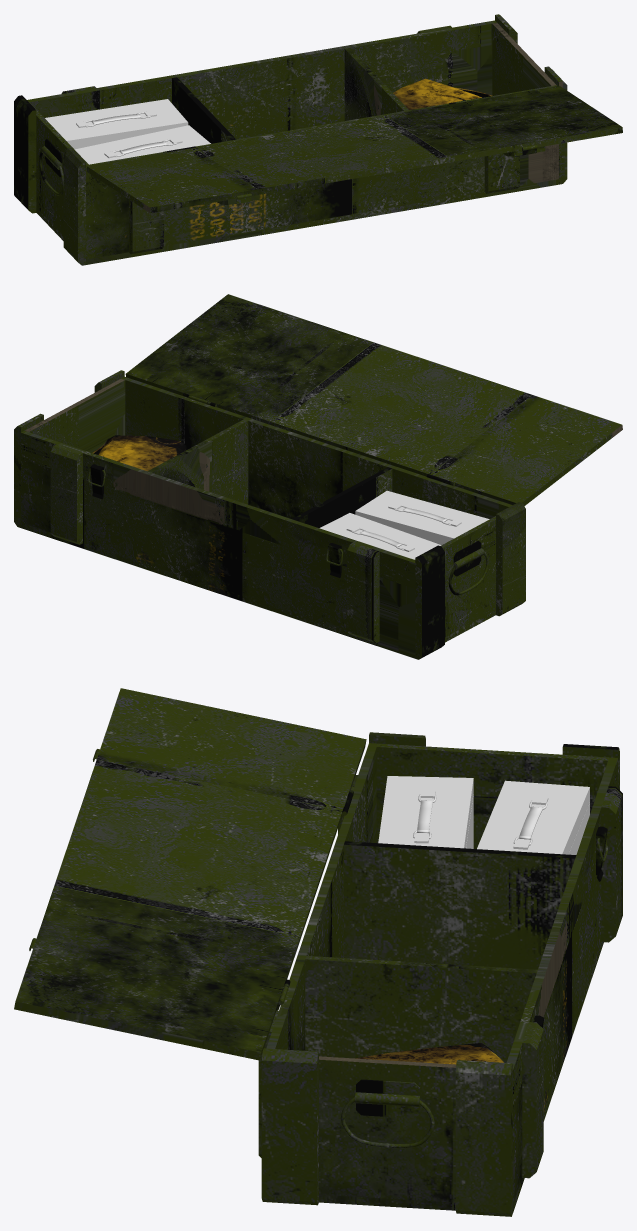
3 views of the same model, one above another, from view 1: azimuth 30°, elevation 25°; view 2: azimuth 150°, elevation 25°; view 3: azimuth 270°, elevation 25° (orthographic). The views are drawn at different scales.
Parts seen in each view (by area): view 1: Open_container3_last, Chest_LP_Cube.001, Chest_LP_Cube.000, Aid_kit_LP.001; view 2: Open_container3_last, Chest_LP_Cube.000, Chest_LP_Cube.001, Aid_kit_LP.001; view 3: Open_container3_last, Chest_LP_Cube.001, Chest_LP_Cube.000, Aid_kit_LP.001.
Part boxes in pixels (x1,y1,x2,y2): Open_container3_last: (14,14,622,265); Chest_LP_Cube.001: (45,99,188,149); Chest_LP_Cube.000: (74,125,210,164); Aid_kit_LP.001: (393,78,492,109); Open_container3_last: (14,294,622,659); Chest_LP_Cube.000: (355,490,489,544); Chest_LP_Cube.001: (319,513,441,559); Aid_kit_LP.001: (92,435,186,471); Open_container3_last: (14,688,622,1216); Chest_LP_Cube.001: (477,780,589,854); Chest_LP_Cube.000: (378,776,473,848); Aid_kit_LP.001: (355,1043,503,1064).
Bounding box in the file's own units: 9.92 × 2.42 × 7.32.
4 materials, 2 textured.
